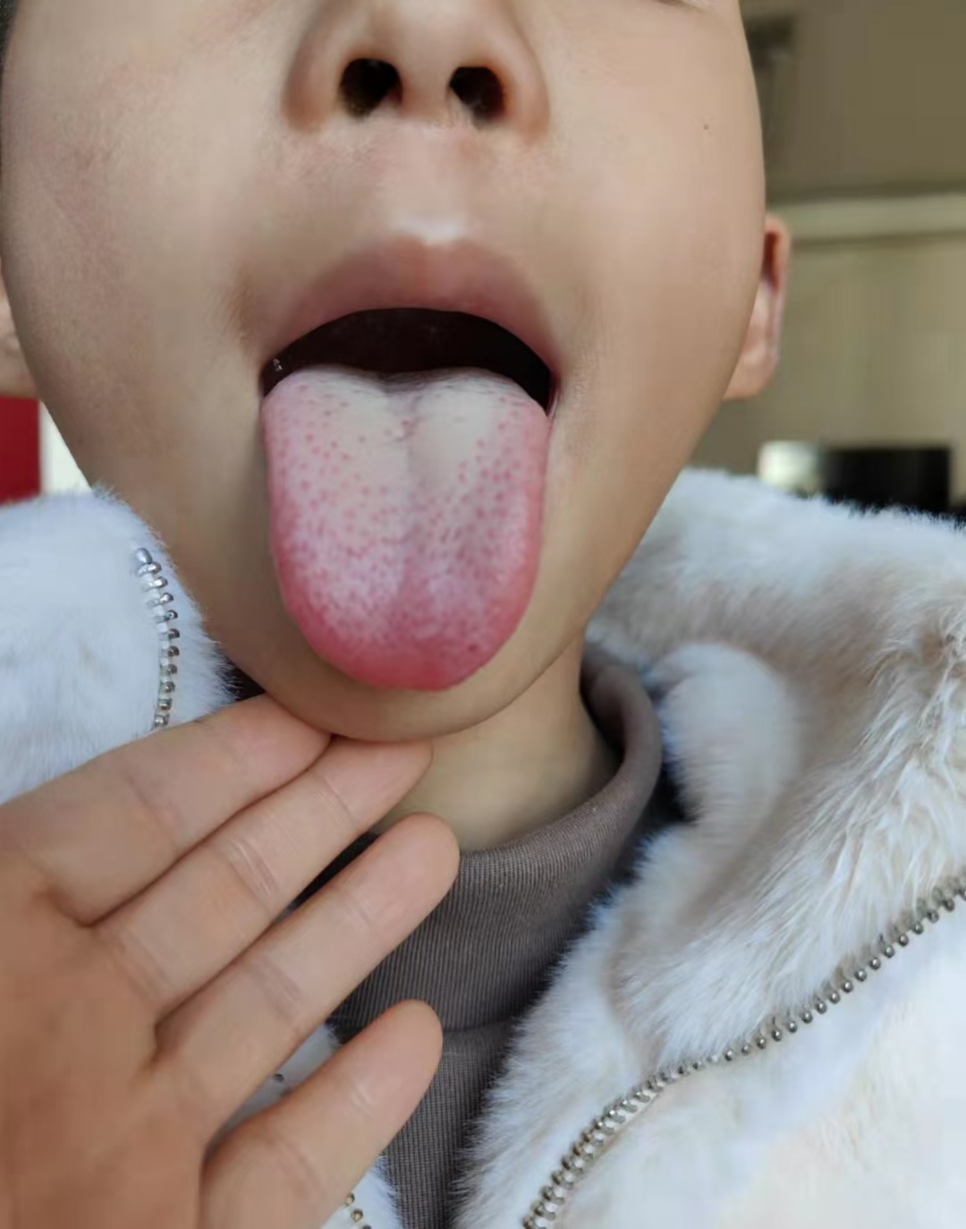baitaishe: (260, 361, 547, 693)
hongdianshe: (464, 638, 481, 654)
hongshe: (260, 361, 547, 693)
